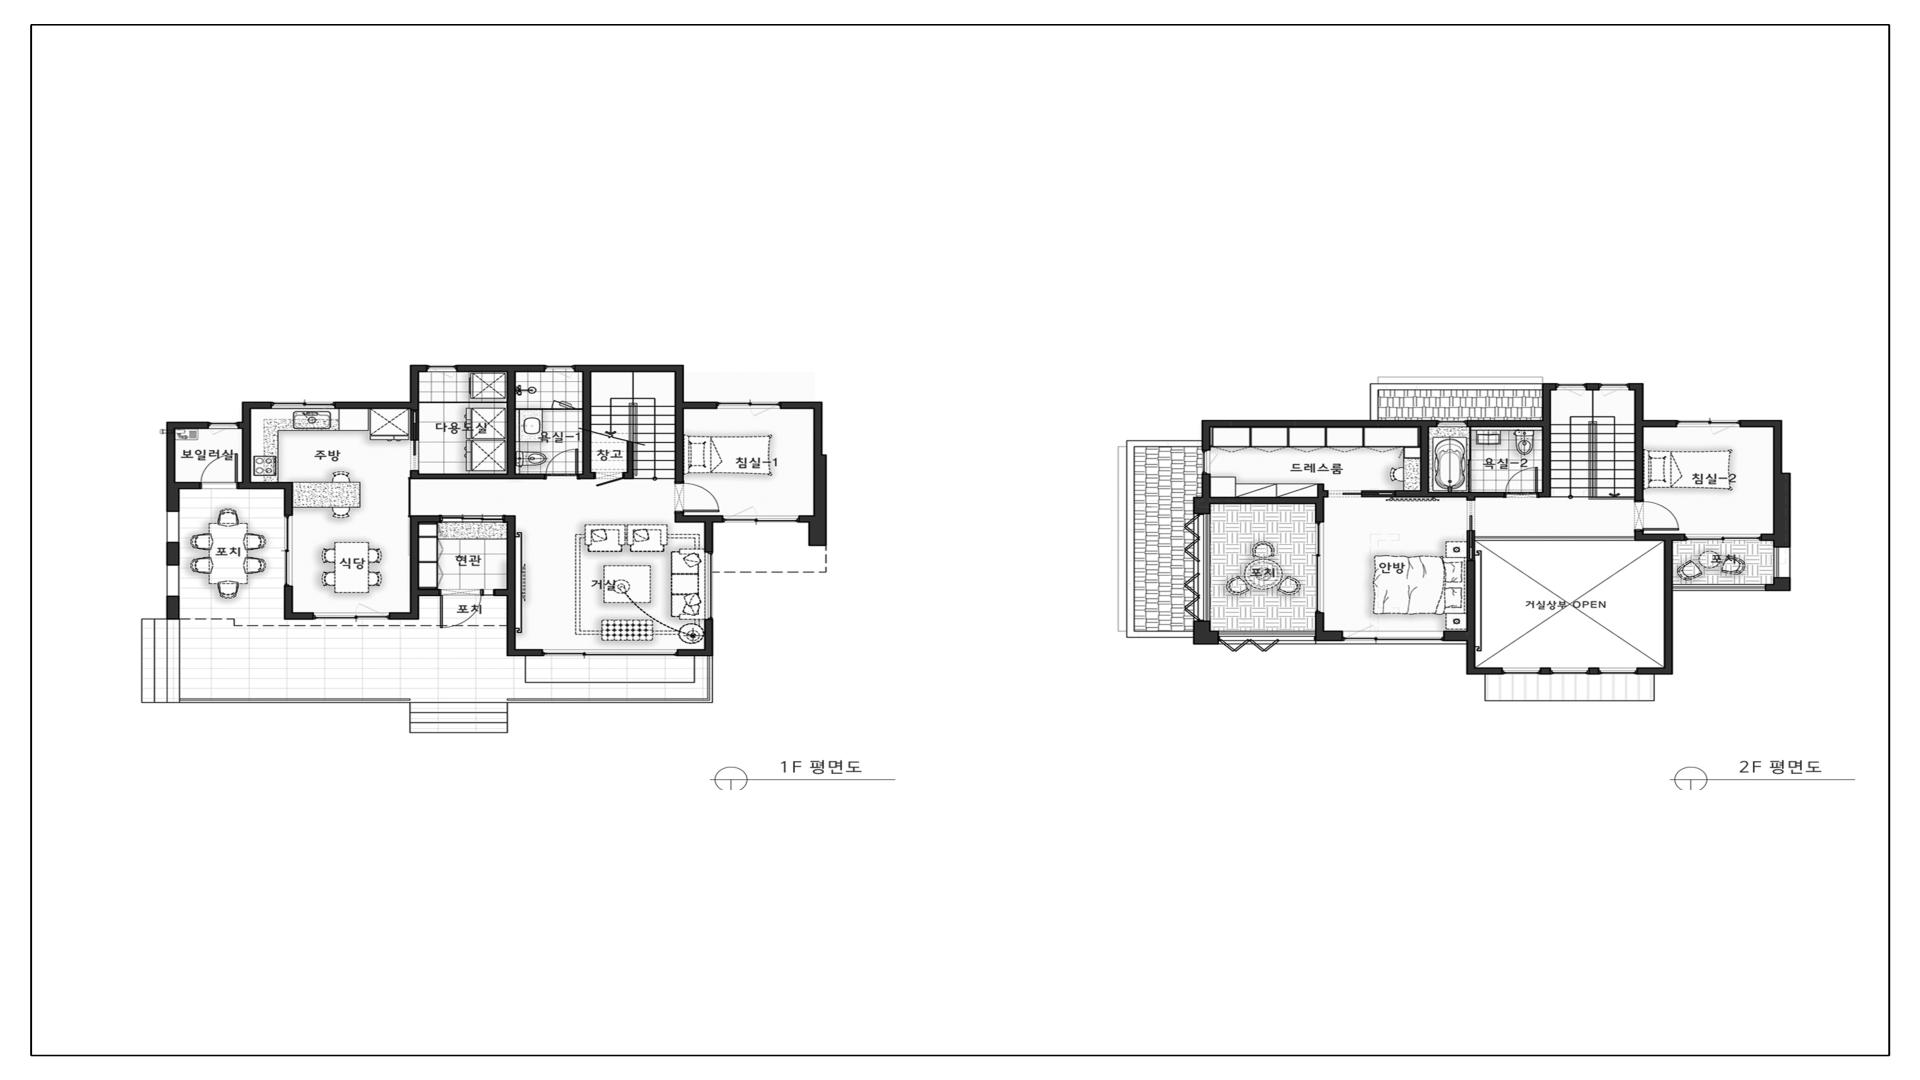door: (439, 588, 495, 628), (199, 454, 240, 489), (1635, 500, 1680, 531), (675, 481, 720, 513), (1505, 467, 1540, 498), (543, 448, 579, 479), (516, 400, 583, 410), (1466, 500, 1476, 560), (410, 410, 419, 471), (439, 514, 505, 522), (1327, 491, 1395, 497), (595, 472, 625, 487)
wall: (1774, 427, 1791, 547), (1211, 421, 1436, 427), (814, 409, 827, 516), (506, 522, 516, 650), (166, 429, 179, 512), (506, 372, 517, 473), (1466, 560, 1476, 675), (1395, 491, 1505, 500), (799, 516, 827, 546), (410, 522, 419, 612), (583, 372, 591, 472), (1540, 427, 1551, 497), (1211, 497, 1315, 504), (1193, 475, 1211, 514), (1635, 427, 1644, 500), (675, 409, 684, 481), (1419, 427, 1429, 491), (419, 473, 543, 479), (576, 365, 675, 372), (458, 365, 545, 372), (1468, 421, 1551, 427), (243, 429, 252, 483), (336, 402, 410, 409), (1634, 531, 1685, 541), (1315, 484, 1327, 521), (675, 513, 723, 522), (410, 372, 419, 410), (675, 365, 684, 402), (781, 401, 823, 409), (1741, 419, 1782, 427), (1634, 390, 1644, 421), (284, 483, 293, 516), (625, 440, 633, 479), (506, 649, 543, 657), (1315, 630, 1342, 641), (240, 483, 284, 489), (678, 649, 713, 657), (1543, 390, 1552, 421), (166, 422, 208, 429), (1634, 421, 1676, 427), (675, 402, 716, 409), (704, 620, 713, 649), (1201, 421, 1211, 450), (704, 522, 713, 551), (239, 409, 252, 429), (389, 612, 419, 620), (284, 587, 293, 612), (285, 612, 313, 620), (1444, 632, 1466, 641), (243, 402, 272, 409), (410, 516, 439, 522), (178, 481, 199, 489), (1315, 613, 1324, 630), (419, 588, 439, 596), (1542, 382, 1556, 390), (1630, 382, 1644, 390), (410, 365, 426, 372), (579, 472, 595, 479), (1586, 384, 1600, 390), (495, 589, 506, 596), (1762, 534, 1774, 541), (506, 516, 516, 524), (410, 471, 419, 479)
window: (1341, 630, 1444, 641), (543, 649, 678, 657), (1476, 535, 1634, 541), (1316, 521, 1324, 613), (284, 516, 293, 587), (704, 551, 713, 620), (313, 612, 389, 620), (1685, 534, 1762, 541), (723, 516, 799, 522), (1676, 421, 1742, 427), (272, 402, 336, 409), (716, 402, 781, 409), (1600, 382, 1630, 390), (1201, 450, 1211, 475), (1436, 421, 1468, 427), (426, 365, 458, 372), (545, 365, 576, 372), (1556, 384, 1586, 390), (208, 422, 239, 429)
